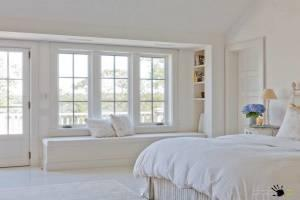window: (53, 49, 172, 126)
